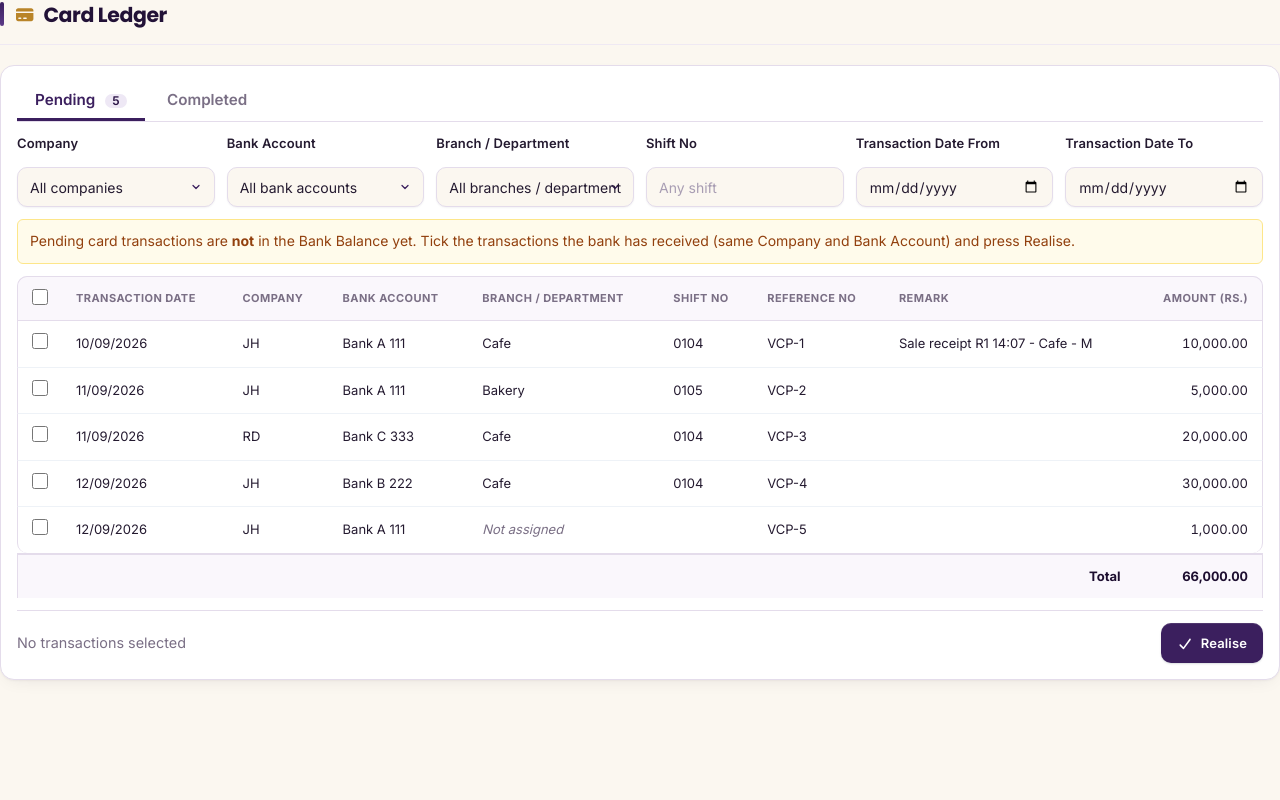
Test: CardLedger page › Confirm sends only ids, the typed Realise Amount and the date (no client totals); success names both expenses
Expected: the text "VCP-1" is shown, left=753, top=321, right=885, bottom=368
Click the checkbox named "Select card transaction VCP-1" at [40, 341], box left=32, top=333, right=48, bottom=349
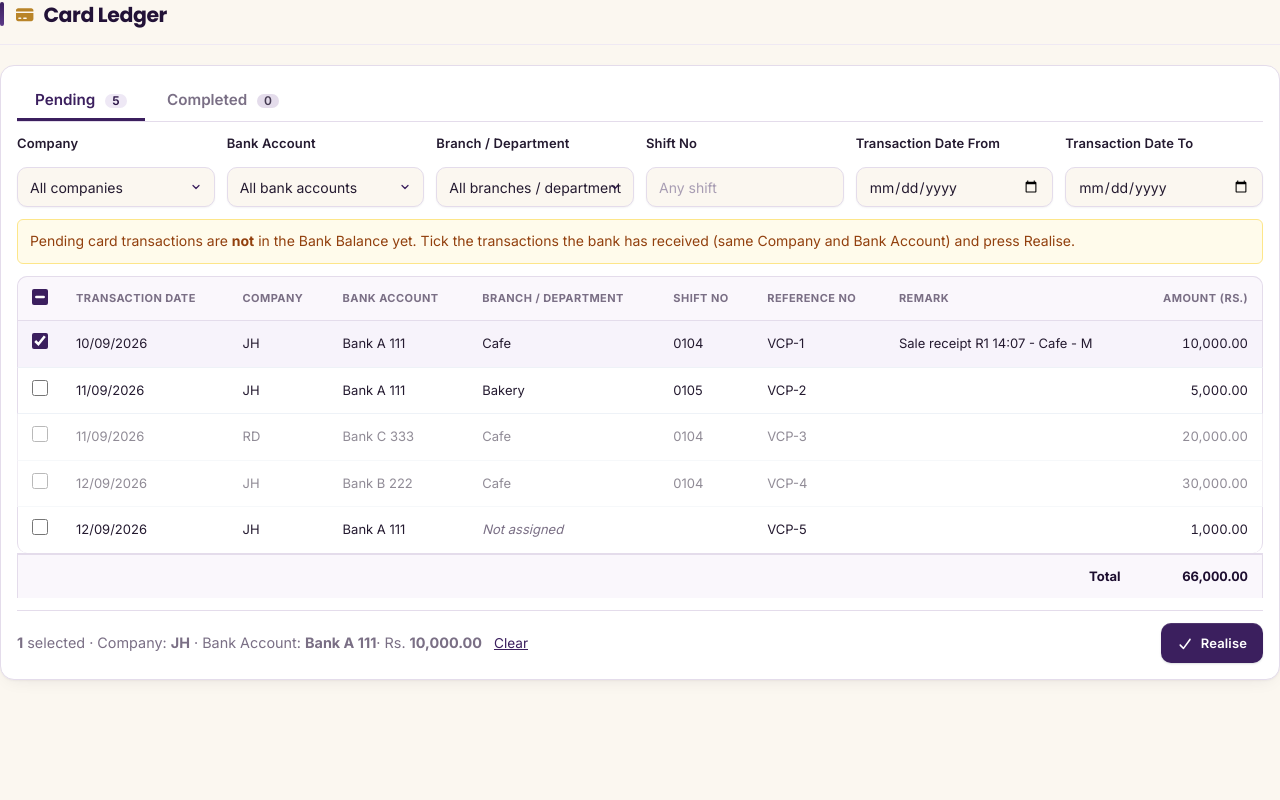
Click the button "Realise" at [1212, 643], box left=1161, top=623, right=1263, bottom=663
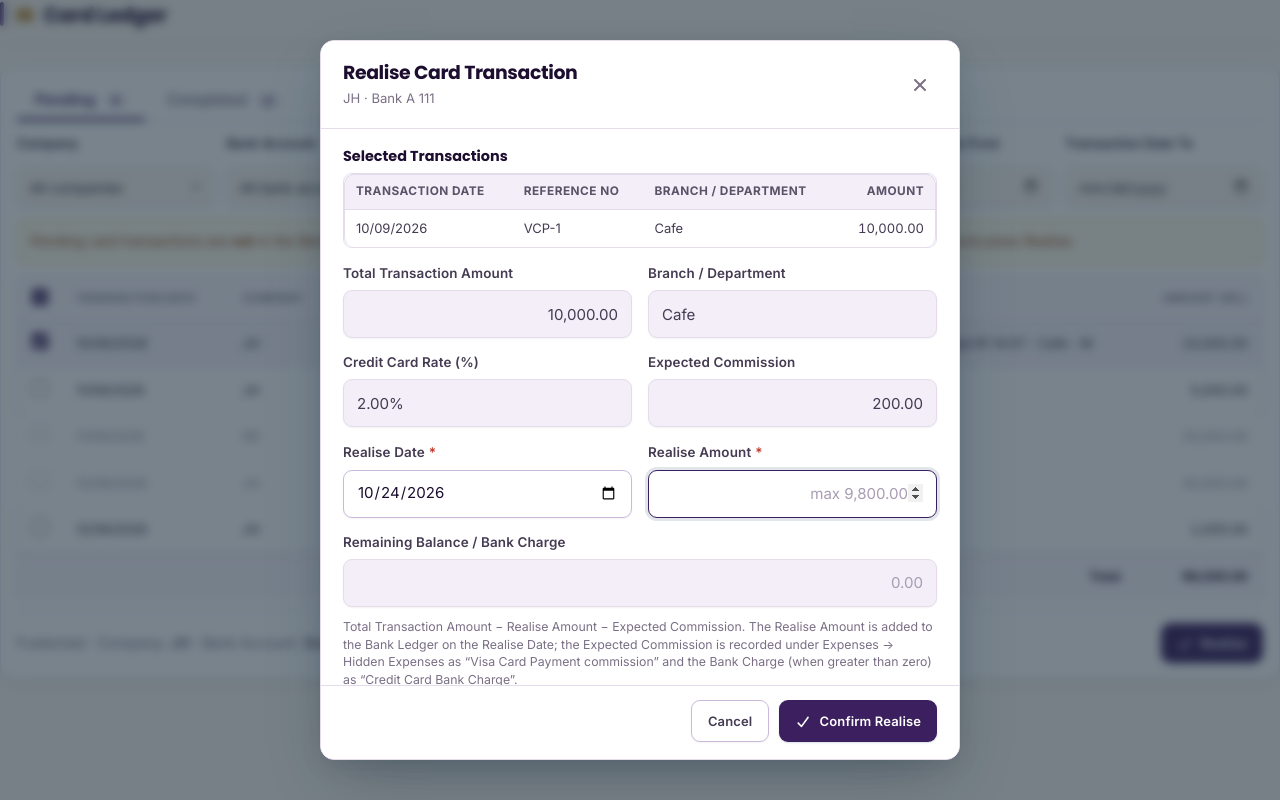
Expected: the field labelled "Credit Card Rate (%)" does not hold "Loading...", left=343, top=379, right=632, bottom=427
Type "2026-10-02" into the date field labelled "Realise Date *" at [488, 494], box left=343, top=470, right=632, bottom=518
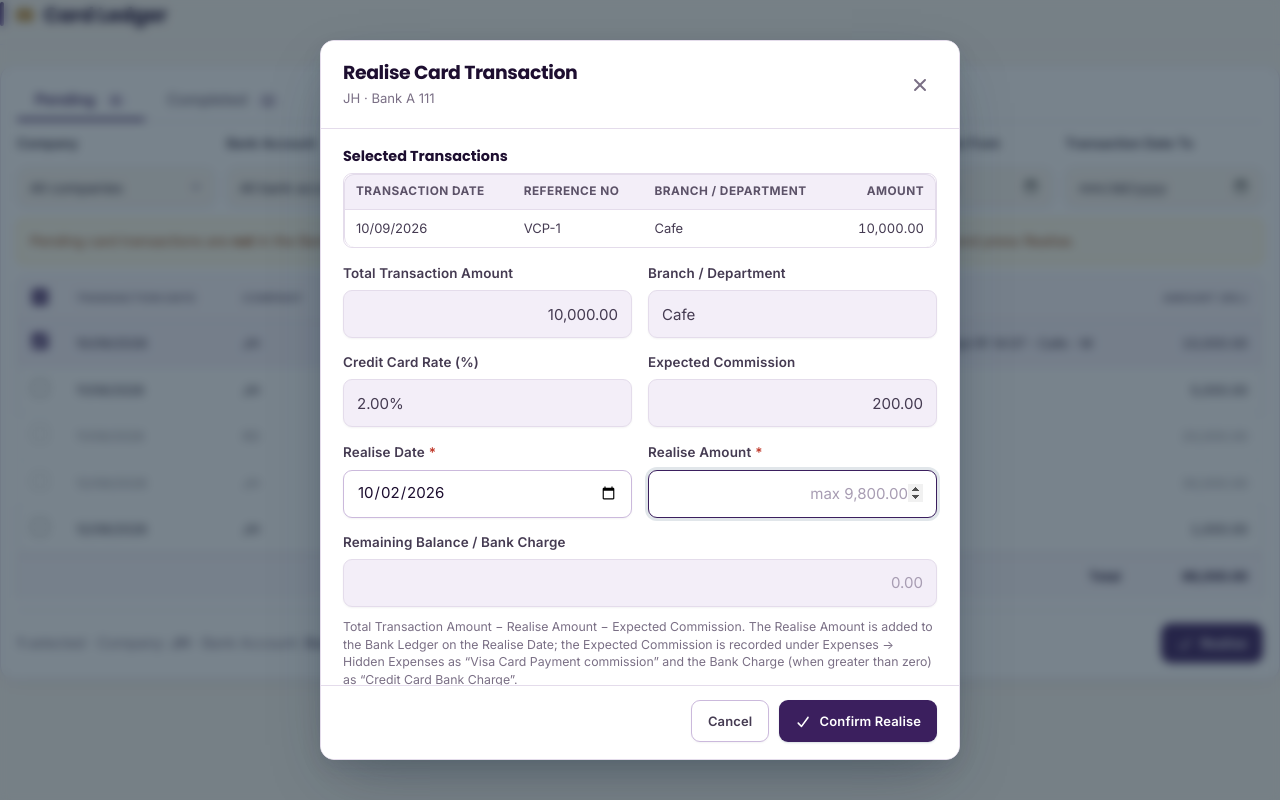
Type "9700" into the number field labelled "Realise Amount *" at [792, 494], box left=648, top=470, right=937, bottom=518
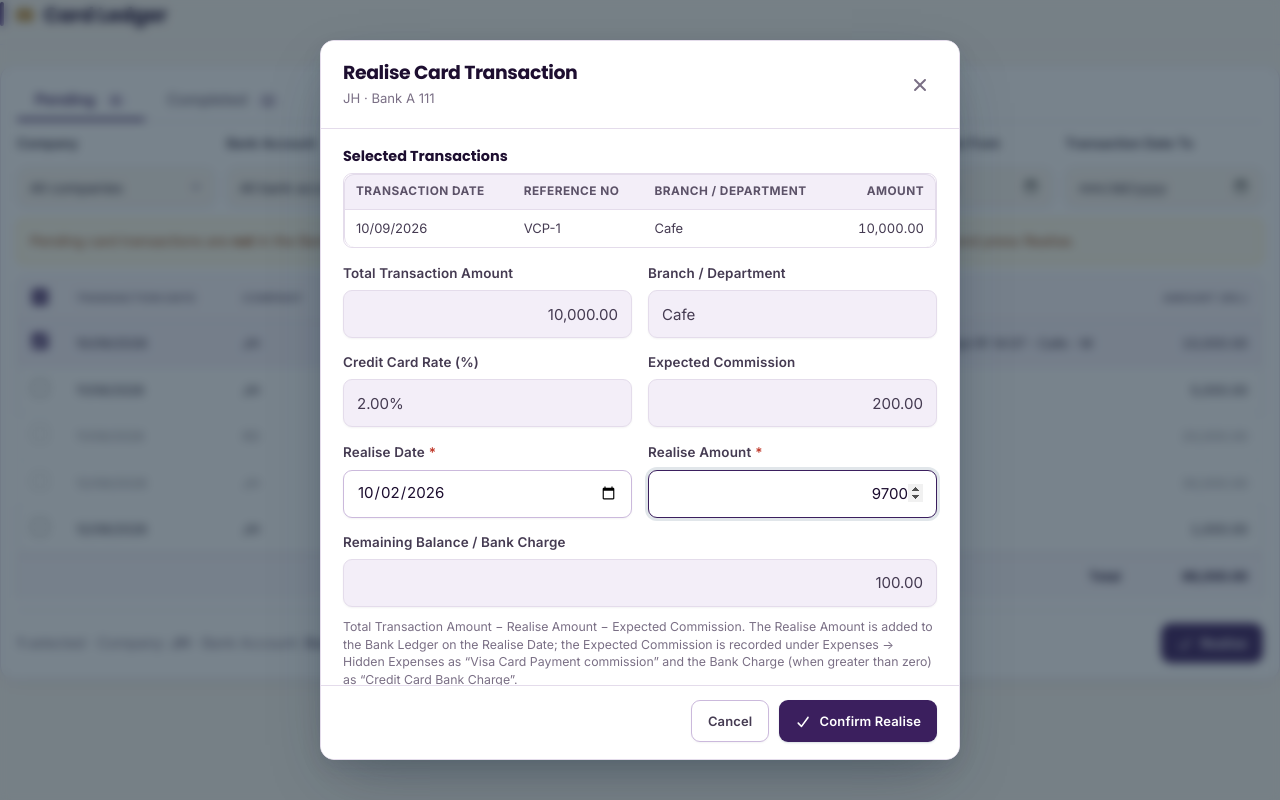
Click the button "Confirm Realise" at [858, 721], box left=779, top=700, right=937, bottom=742
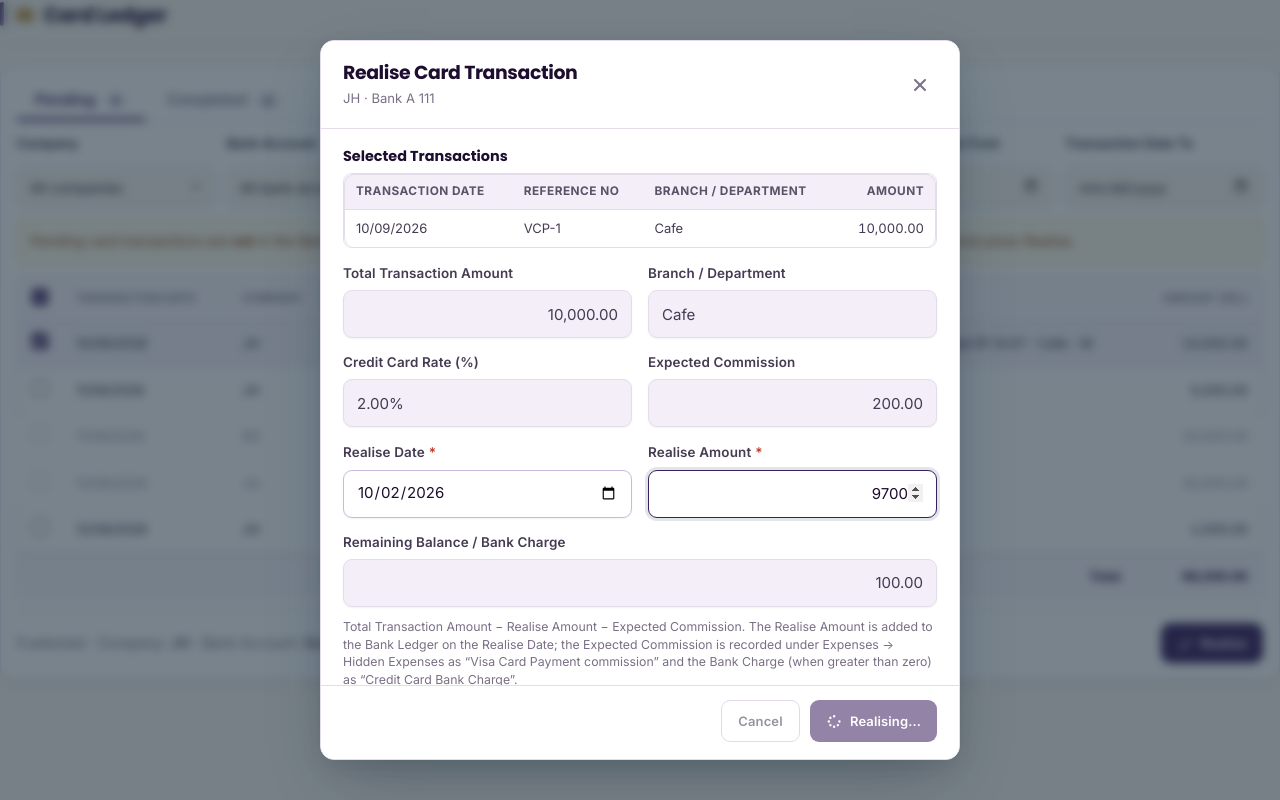
Click the button named "Confirm Realise" at [873, 721], box left=810, top=700, right=937, bottom=742
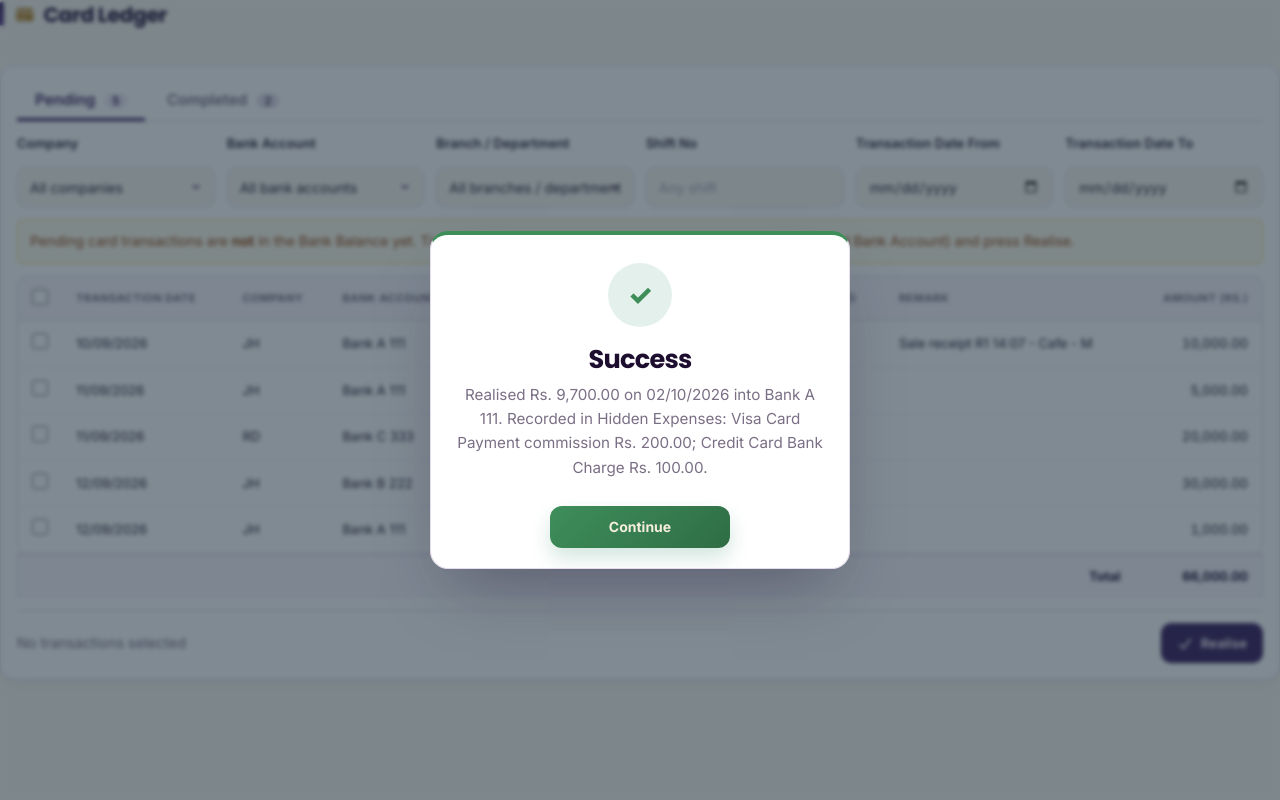
Expected: the text "Visa Card Payment commission Rs. 200.00; Credit Card Bank Charge Rs. 100.00" is shown, left=457, top=385, right=823, bottom=477
